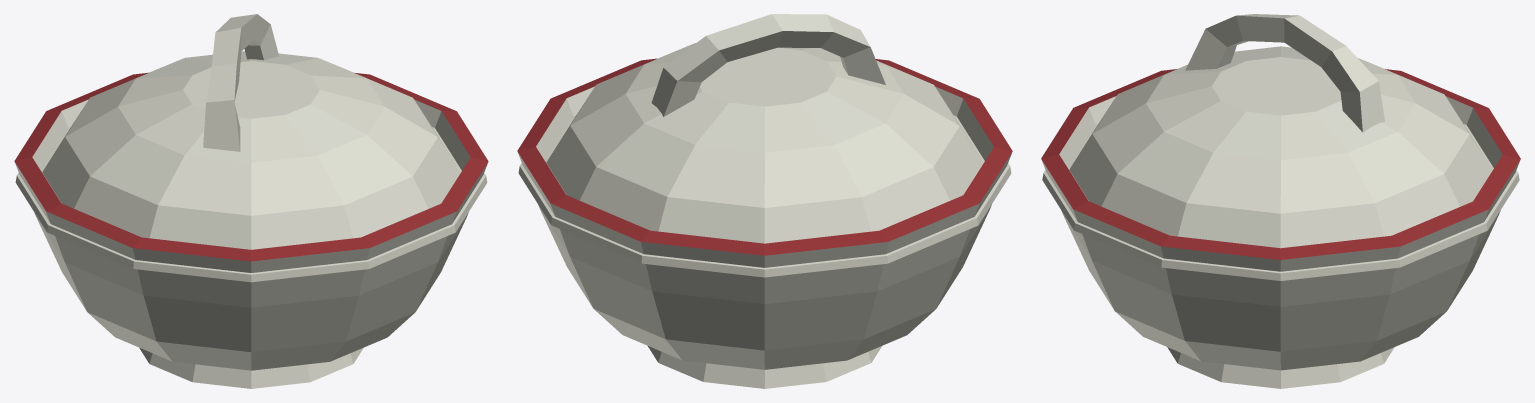
The model's file is Bowl_big.fbx.
3 views of the same model, side by side, from view 1: azimuth 30°, elevation 25°; view 2: azimuth 150°, elevation 25°; view 3: azimuth 270°, elevation 25° (orthographic). The views are drawn at different scales.
Parts seen in each view (by area): view 1: Bowl_big; view 2: Bowl_big; view 3: Bowl_big.
Part boxes in pixels (x1,y1,x2,y2): Bowl_big: (14, 14, 488, 388); Bowl_big: (517, 14, 1012, 388); Bowl_big: (1041, 14, 1520, 388).
Bounding box in the file's own units: 0.2198 × 0.1598 × 0.2198.
